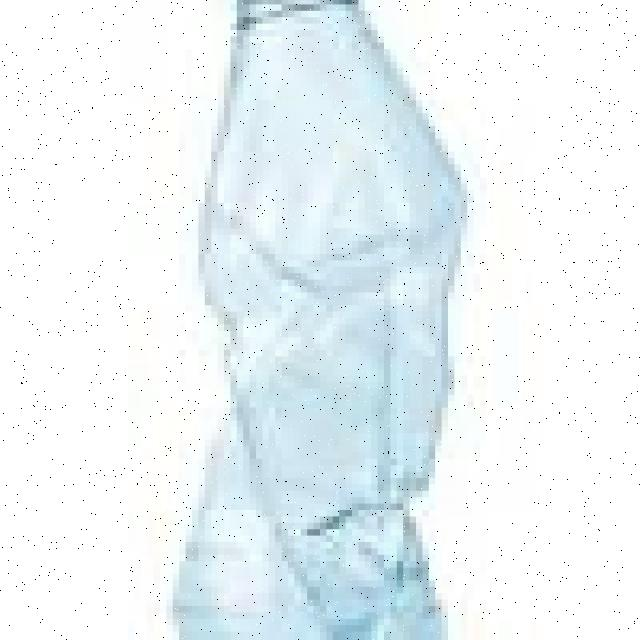bottle: (163, 1, 498, 640)
